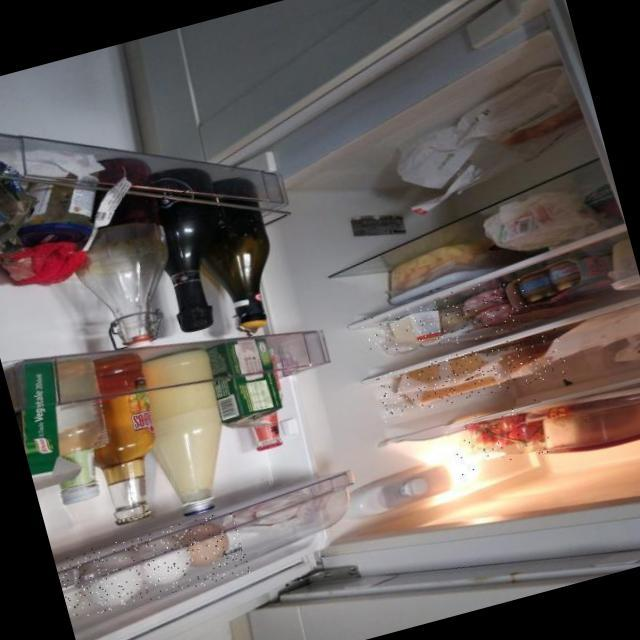Carne cerdo: (513, 369, 640, 440)
Huevos: (52, 508, 249, 620)
Queso: (369, 327, 567, 422), (358, 297, 451, 361)
Tomate: (442, 397, 553, 475)
bacon: (438, 272, 533, 346)
